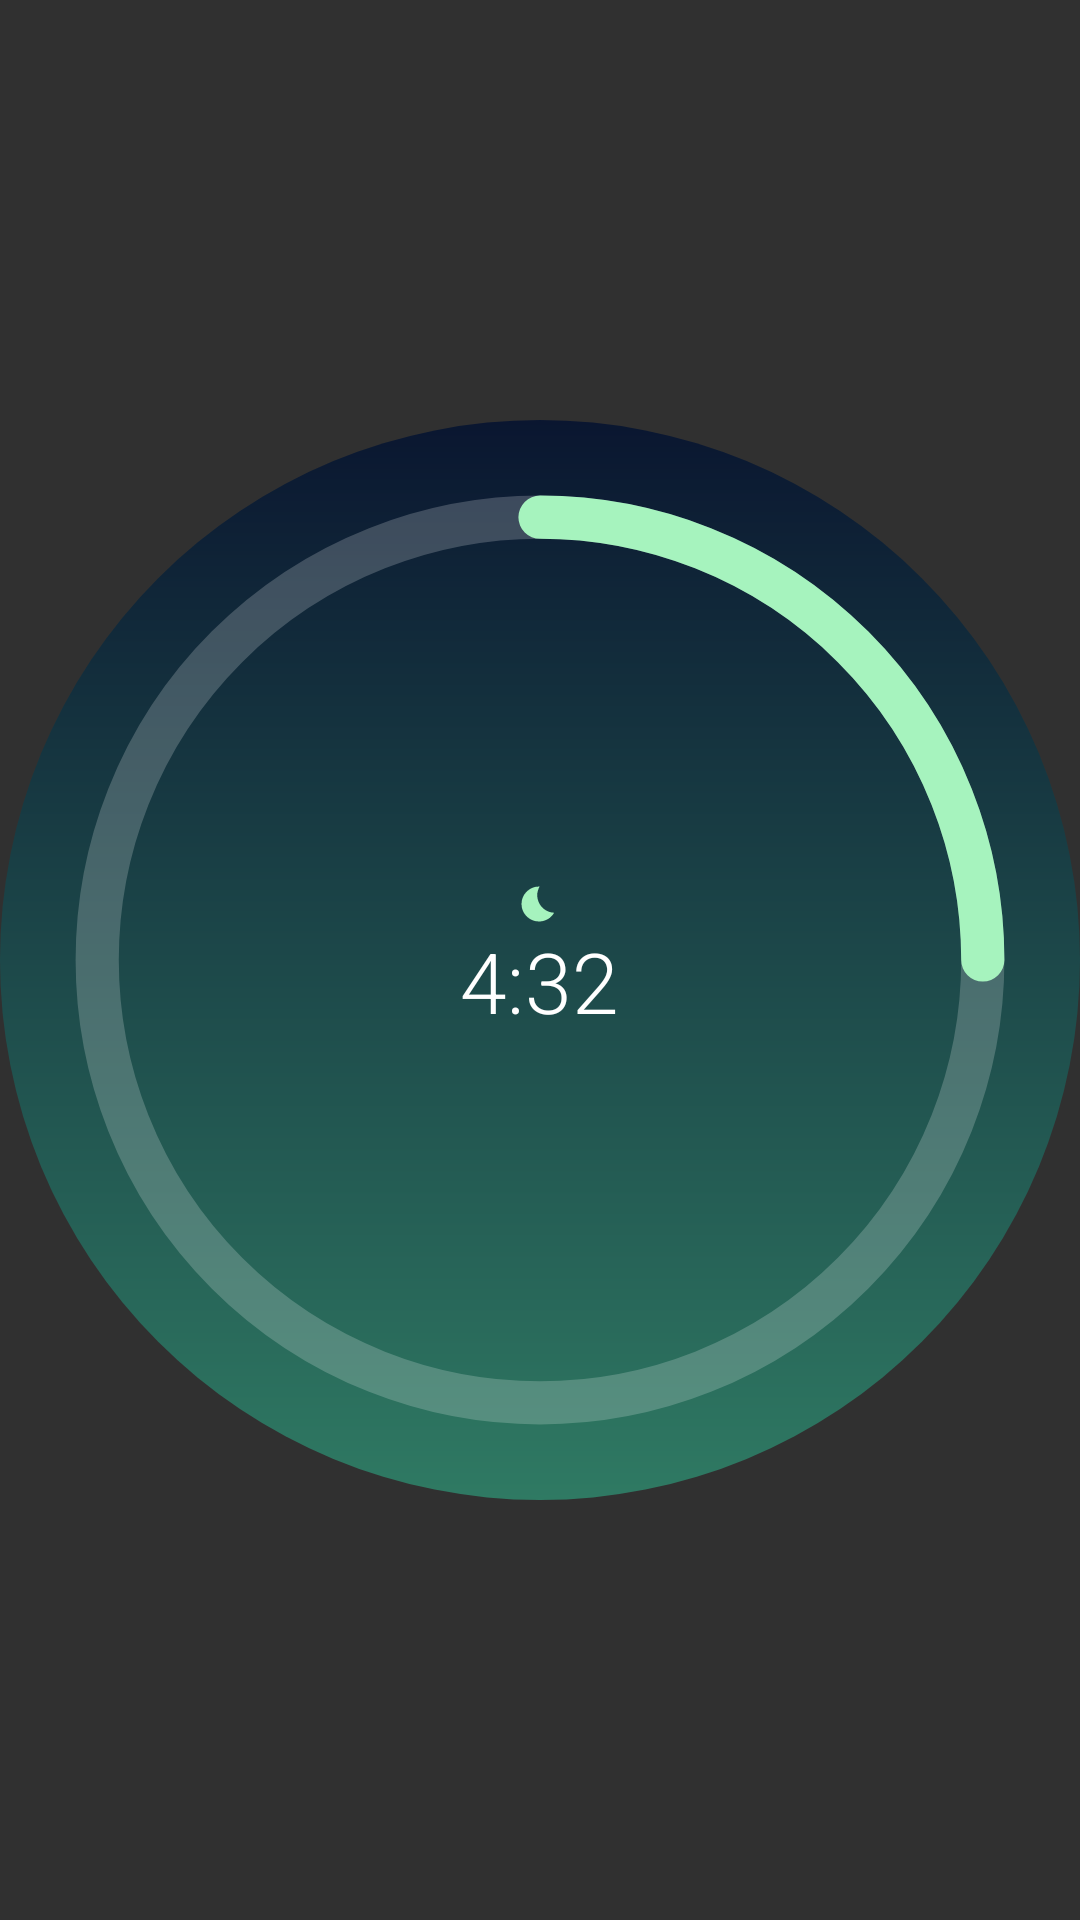

Icon bounding boxes for this 1080 x 1920 phone screenshot, format bbox(x1, y1, x2, y2):
crescent: bbox(521, 886, 554, 922)
